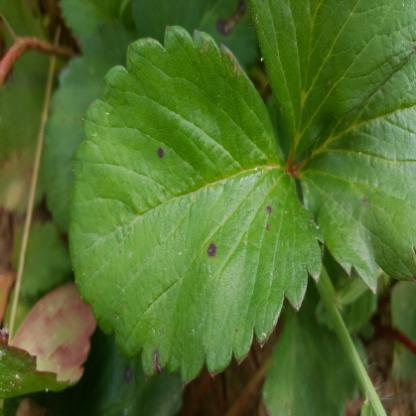Strawberry_Leaf_Spot: (66, 25, 324, 388), (38, 329, 184, 415)
